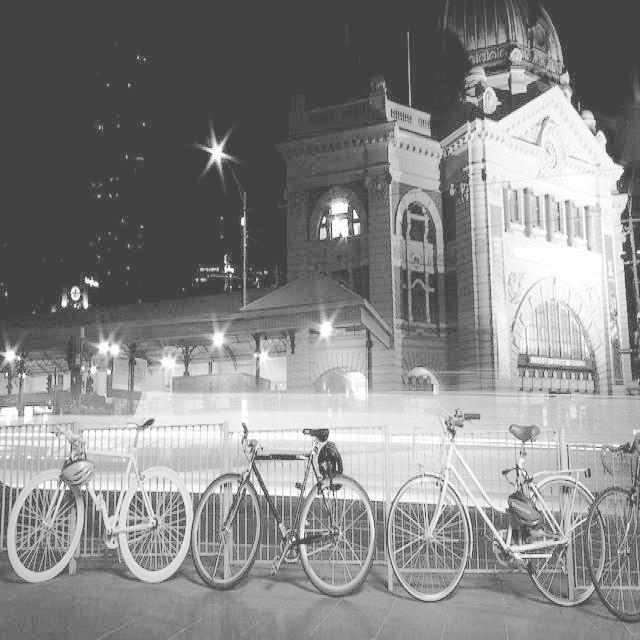Bicycle: (399, 400, 636, 636), (195, 401, 384, 619), (0, 415, 201, 608), (583, 460, 640, 640)
